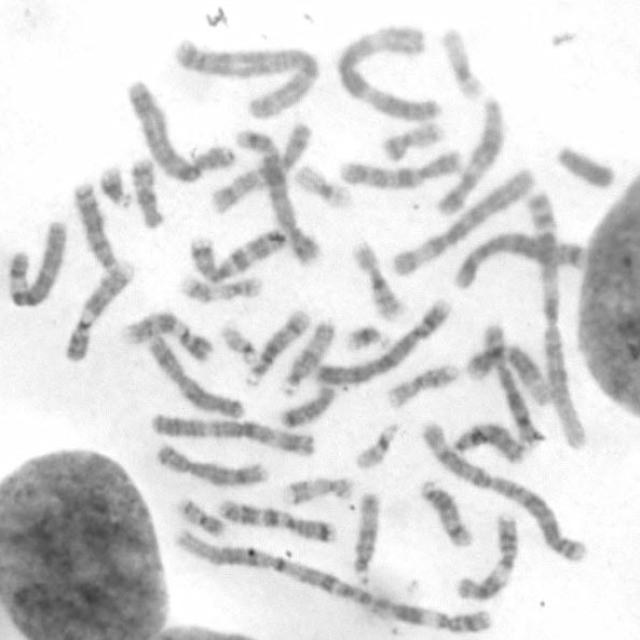A1: (158, 519, 501, 638), (520, 182, 592, 452)
A2: (416, 413, 588, 565), (168, 32, 322, 119)
A3: (334, 20, 444, 121), (144, 408, 316, 458)
B4: (310, 294, 452, 389), (122, 73, 240, 184)
B5: (230, 122, 323, 268), (449, 228, 591, 292)
C10: (206, 119, 313, 216), (336, 144, 464, 192)
C11: (450, 509, 521, 603)
C12: (432, 93, 507, 216), (462, 339, 553, 407)
C6: (384, 164, 536, 278), (1, 215, 69, 308)
C7: (184, 221, 318, 286), (214, 493, 338, 545)
C8: (477, 318, 544, 448), (151, 440, 269, 488)
C9: (60, 257, 136, 364), (115, 305, 214, 364)
D13: (70, 176, 122, 273), (446, 417, 529, 466)
D14: (240, 304, 312, 389), (414, 474, 476, 549)
D15: (277, 314, 338, 398), (349, 486, 383, 586)
E16: (347, 236, 407, 320), (383, 360, 460, 410)
E17: (175, 269, 266, 305), (279, 471, 356, 506)
E18: (126, 152, 168, 231), (275, 380, 338, 429)
F19: (437, 21, 488, 102), (291, 160, 354, 211)
F20: (376, 116, 444, 162), (174, 493, 226, 538)
G21: (94, 159, 134, 211), (341, 321, 391, 353)
G22: (351, 418, 401, 472), (216, 320, 260, 366)
X: (145, 331, 248, 420)
Y: (552, 138, 618, 190)
